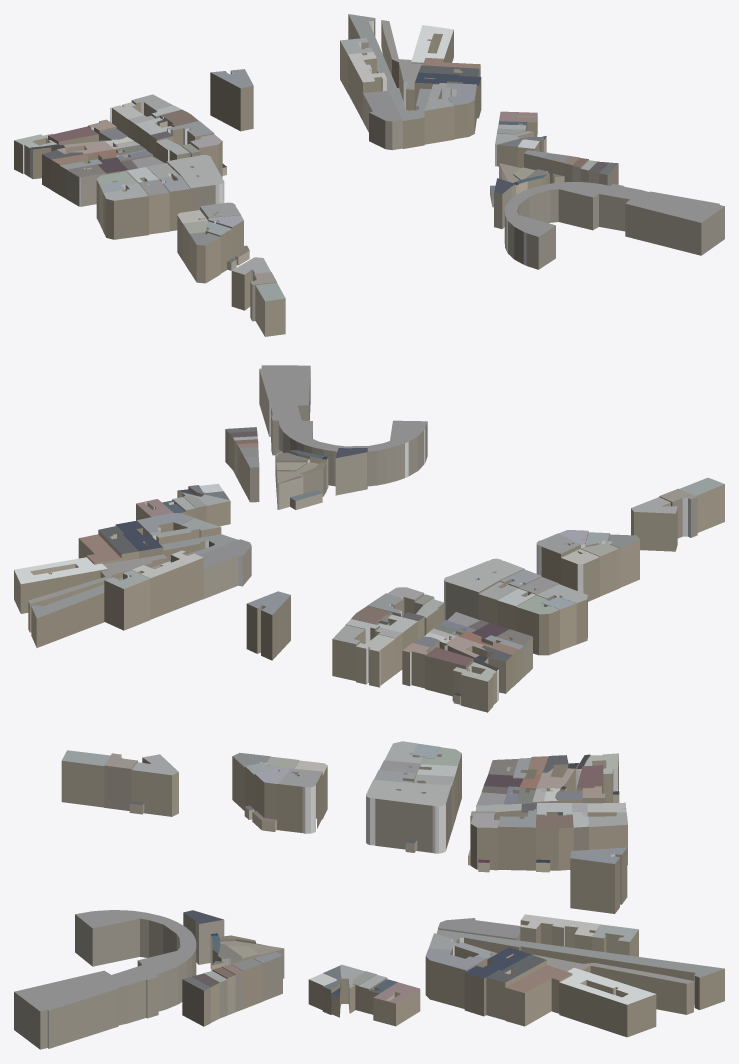
3 views of the same model, one above another, from view 1: azimuth 30°, elevation 25°; view 2: azimuth 150°, elevation 25°; view 3: azimuth 270°, elevation 25° (orthographic). The views are drawn at different scales.
Parts seen in each view (by area): view 1: tuile; view 2: tuile; view 3: tuile.
Part boxes in pixels (x1,y1,x2,y2): tuile: (14,14,724,336); tuile: (14,365,724,712); tuile: (14,741,724,1049).
Size of the model in its own units: 290 by 27.73 by 332.
